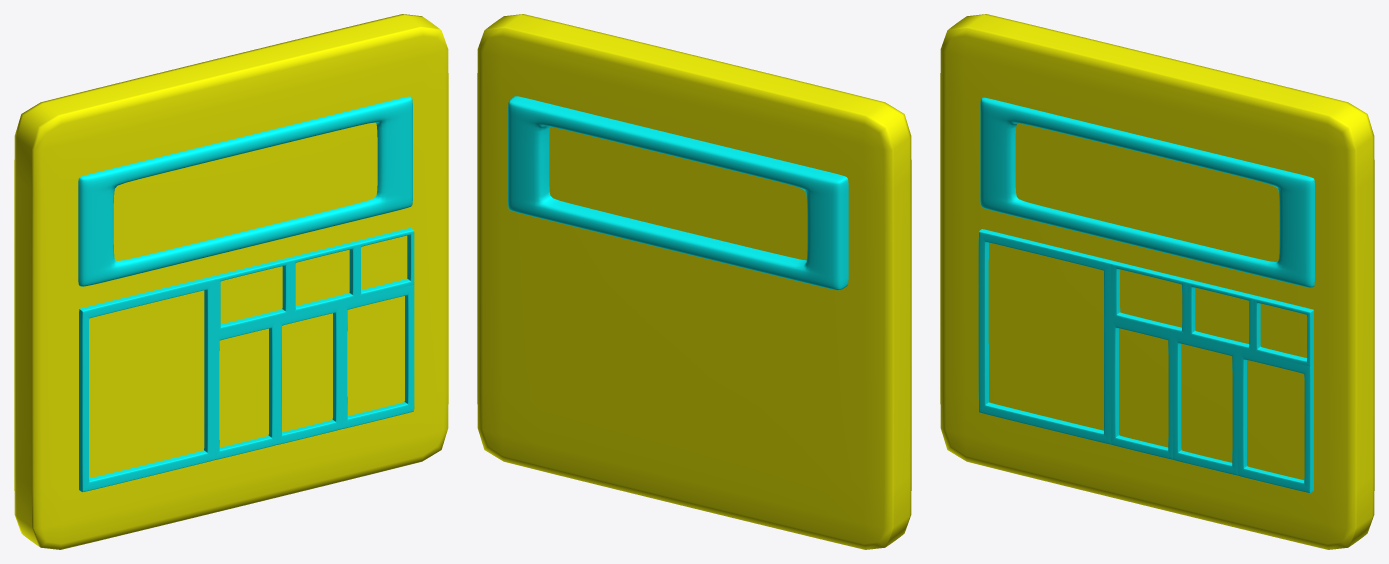
3 renders of one model, left to right at view 1: azimuth 30°, elevation 25°; view 2: azimuth 150°, elevation 25°; view 3: azimuth 330°, elevation 25°, orthographic.
Parts seen in each view (by area): view 1: polySurface1034; view 2: polySurface1034; view 3: polySurface1034.
Boxes of the visible parts, box(x1,y1,x2,y2) form: polySurface1034: box(14, 14, 448, 549); polySurface1034: box(477, 14, 911, 549); polySurface1034: box(940, 14, 1374, 549).
Bounding box in the file's own units: 0.9994 × 0.9994 × 0.1498.
